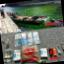fishing boat: (6, 8, 50, 29)
